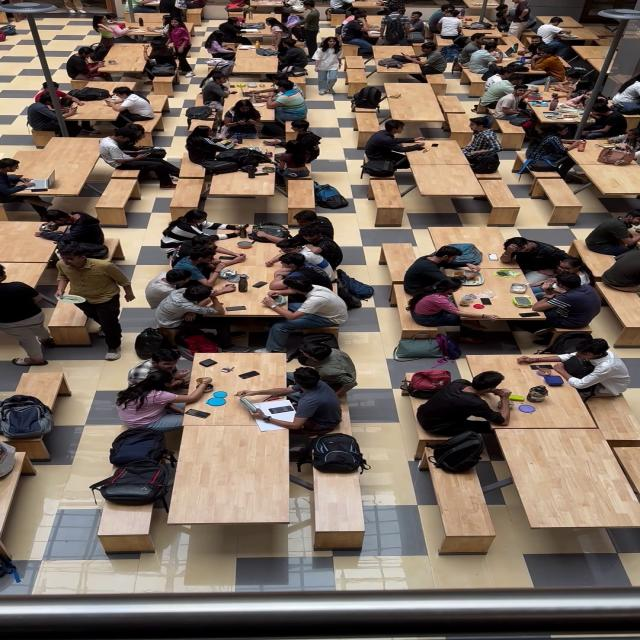Occupied: (459, 354, 599, 430), (422, 253, 558, 314), (239, 366, 343, 438), (199, 247, 305, 317), (180, 352, 288, 420), (5, 138, 111, 206), (527, 340, 633, 400), (113, 368, 208, 434), (494, 37, 586, 104), (416, 372, 512, 436), (99, 129, 182, 190), (270, 341, 358, 398), (356, 1, 472, 43), (197, 227, 299, 272), (410, 280, 498, 328), (499, 99, 580, 150), (74, 282, 125, 359), (403, 245, 478, 295), (531, 274, 602, 325), (259, 292, 349, 332), (524, 124, 586, 182), (160, 210, 244, 252), (499, 238, 572, 286), (260, 227, 340, 270), (267, 256, 335, 306), (150, 284, 235, 324), (62, 98, 146, 137), (384, 83, 448, 133), (124, 348, 195, 393), (32, 82, 93, 134), (363, 120, 428, 168), (171, 243, 245, 285), (38, 211, 106, 254), (183, 125, 244, 172), (0, 161, 48, 214), (176, 314, 251, 347), (362, 47, 427, 85), (0, 261, 43, 318), (256, 78, 308, 124), (265, 119, 322, 160), (584, 212, 636, 256), (460, 117, 502, 171), (400, 138, 475, 168), (312, 37, 344, 95), (492, 85, 539, 124), (219, 100, 264, 140), (579, 104, 628, 140), (399, 42, 448, 78), (139, 39, 178, 83), (64, 47, 109, 83), (598, 128, 640, 166), (338, 14, 375, 57), (231, 48, 281, 79), (294, 0, 320, 58), (546, 68, 590, 100), (272, 41, 310, 77), (200, 70, 233, 110), (212, 16, 255, 46), (462, 41, 501, 74), (205, 28, 242, 61), (92, 13, 131, 43), (610, 77, 640, 115), (503, 0, 533, 38), (265, 17, 293, 49), (124, 21, 176, 38), (428, 3, 461, 29), (167, 20, 190, 55), (341, 6, 368, 29), (484, 64, 520, 78), (328, 0, 358, 15), (226, 0, 250, 12)
Unoccupied: (496, 425, 640, 530), (166, 424, 291, 527), (429, 466, 497, 556), (568, 239, 638, 324), (306, 472, 366, 549), (78, 507, 184, 550), (568, 160, 640, 214), (0, 452, 29, 570), (204, 168, 280, 208), (584, 390, 640, 442), (428, 224, 510, 256), (413, 172, 498, 202), (533, 176, 584, 223), (0, 225, 57, 266), (92, 179, 142, 222), (11, 372, 67, 410), (475, 179, 523, 223), (609, 444, 640, 502), (95, 44, 150, 76), (369, 179, 406, 224), (367, 26, 422, 55), (169, 173, 209, 210), (286, 324, 340, 348), (287, 179, 317, 221), (47, 308, 89, 338), (380, 242, 418, 272), (353, 110, 383, 145), (435, 96, 467, 128), (460, 28, 507, 49), (490, 40, 527, 63), (530, 13, 588, 25), (345, 71, 369, 96), (129, 0, 163, 16), (146, 94, 170, 113)
